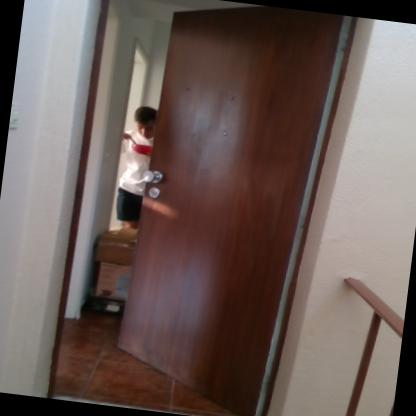semi: (40, 0, 352, 415)
